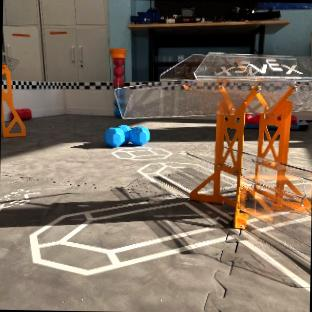V5_BLUE: (104, 124, 149, 146)
V5_RED: (16, 108, 31, 118)
redloader: (110, 48, 126, 87)
